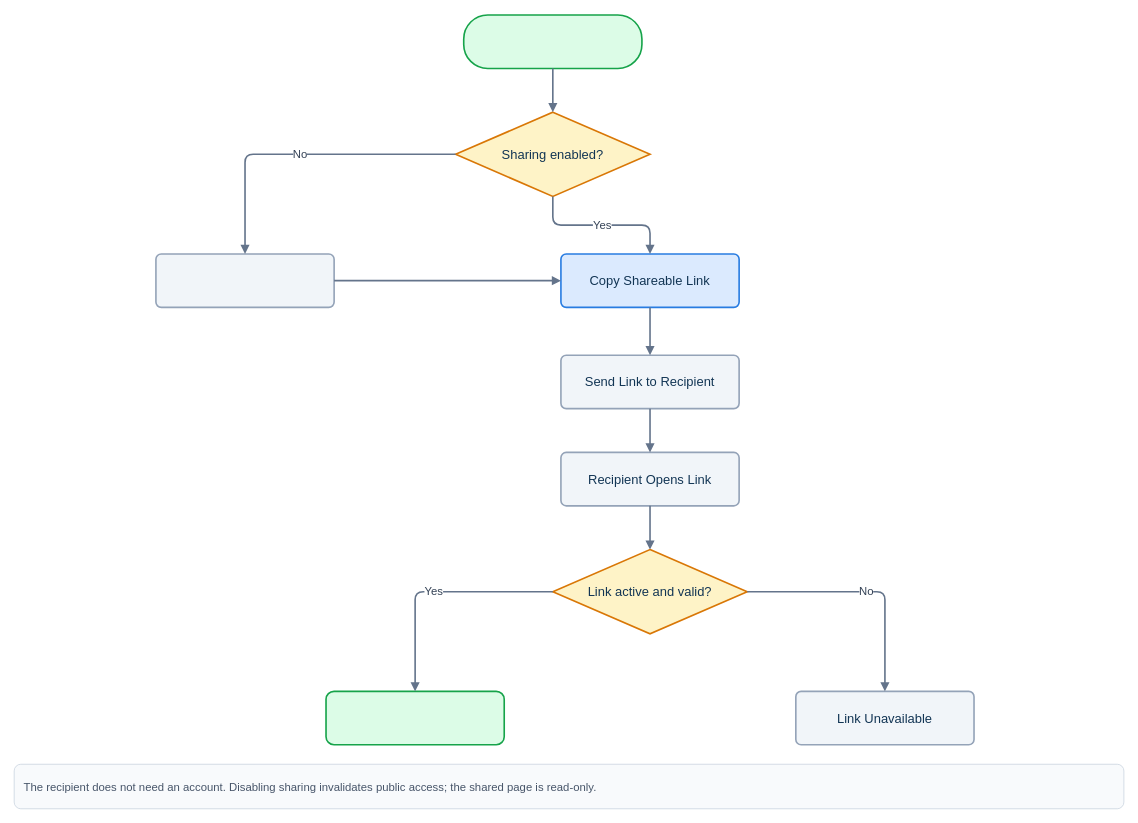
The diagram is 1138 pixels wide and 823 high, and some of its shapes have lost their labels. Here are the shapes that lost their labels. From the top down, the centre of each, then its label:
At pixel 552 41: "Share History Modal (from Flow 04)".
At pixel 245 280: "Enable Sharing".
At pixel 415 717: "Public Read-Only History".
